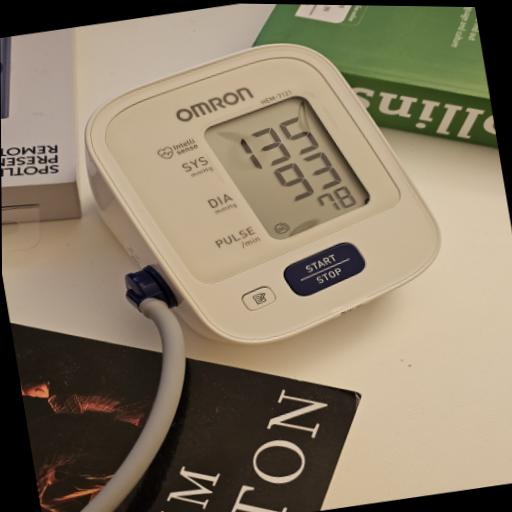lcd display: (199, 83, 379, 251)
